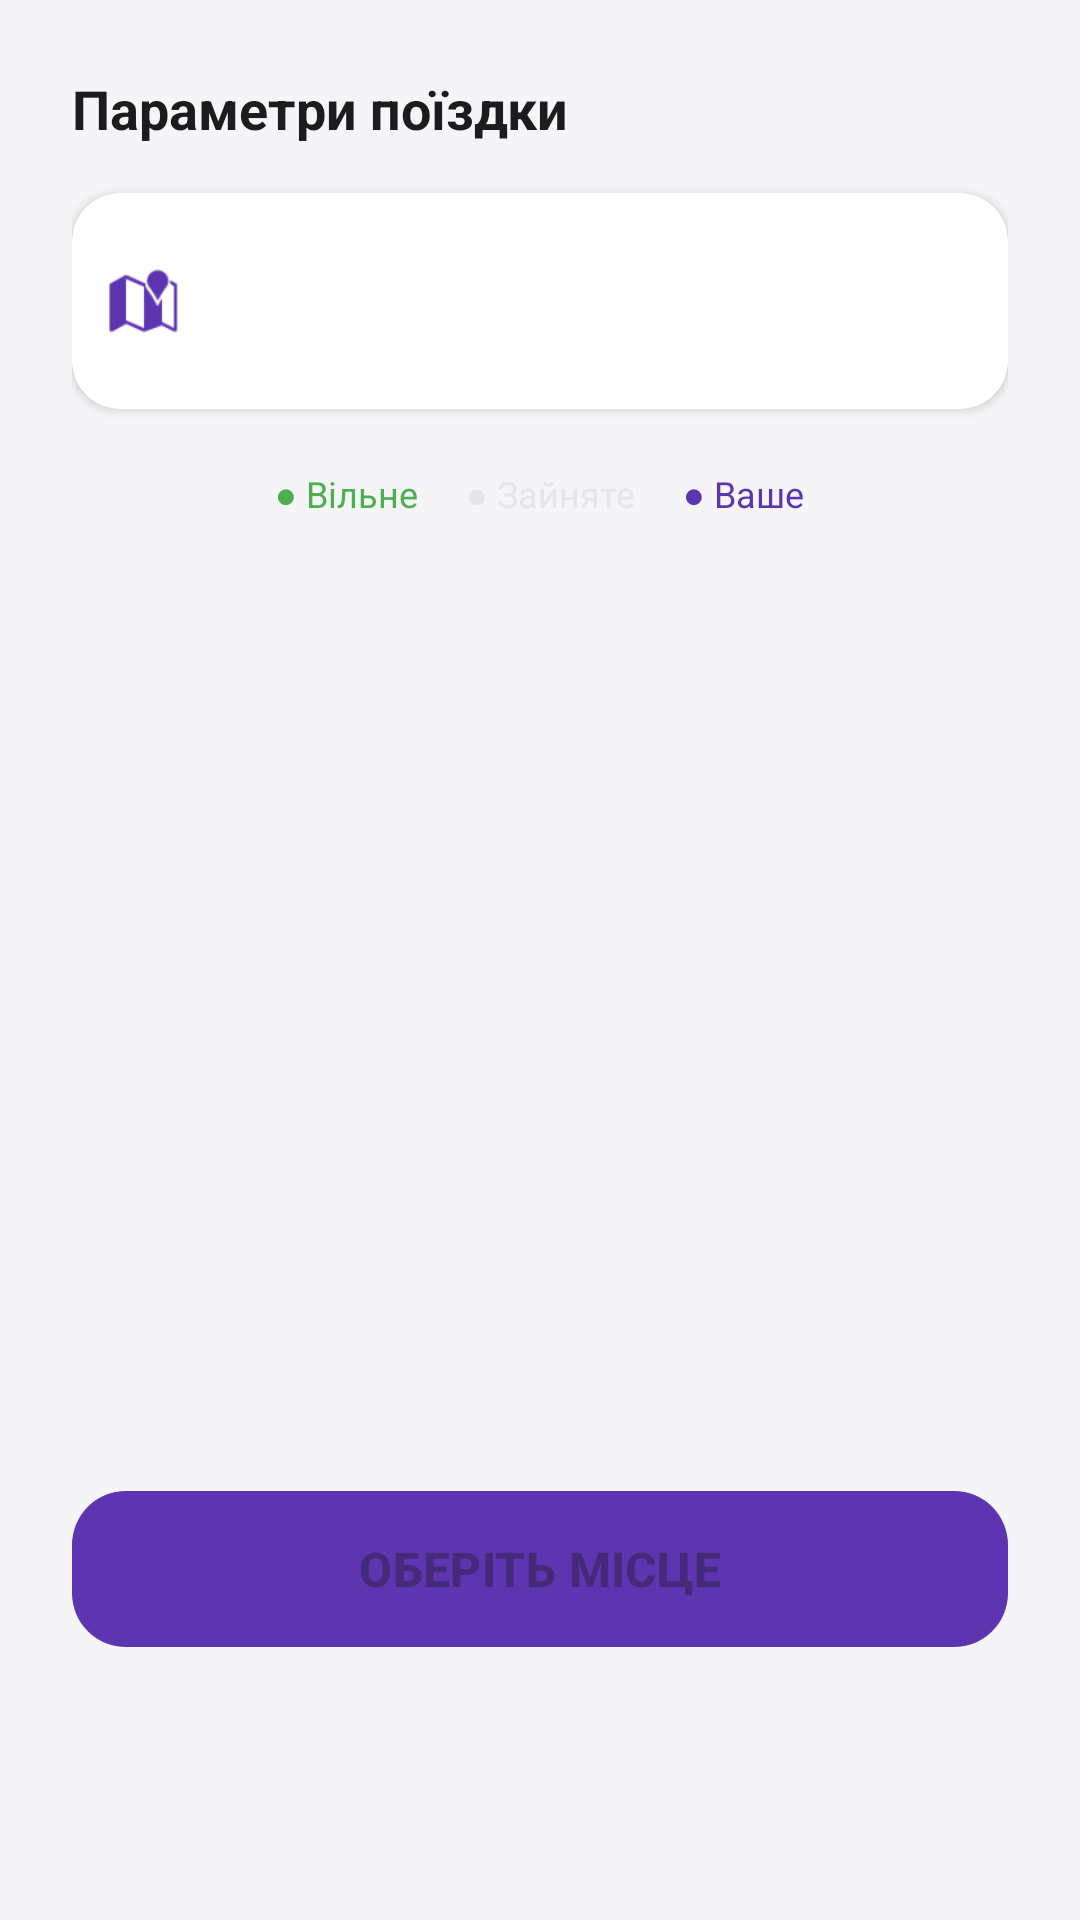

Icon bounding boxes for this 1080x1920 phone screenshot, format (x1, y1, x2, y2):
map: (109, 269, 178, 333)
